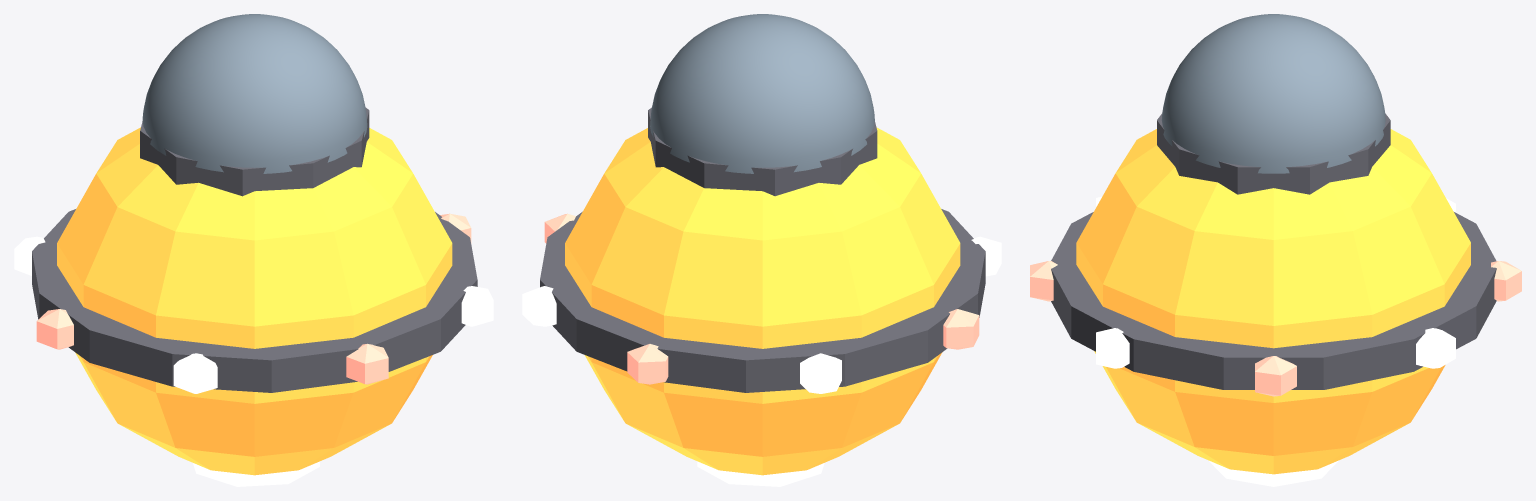
The model's file is foo.glb.
The picture shows the model from 3 angles, left to right: view 1: azimuth 30°, elevation 25°; view 2: azimuth 150°, elevation 25°; view 3: azimuth 270°, elevation 25°; orthographic projection.
Parts seen in each view (by area): view 1: foo, dome.003; view 2: foo, dome.003; view 3: foo, dome.003.
Part boxes in pixels (x1,y1,x2,y2): foo: (14,108,493,486); dome.003: (142,14,367,173); foo: (522,107,1001,486); dome.003: (650,14,874,173); foo: (1030,113,1521,486); dome.003: (1161,14,1385,173).
Size of the model in its own units: 2.2 by 2.13 by 2.19.
